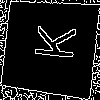K: (25, 22, 76, 61)
